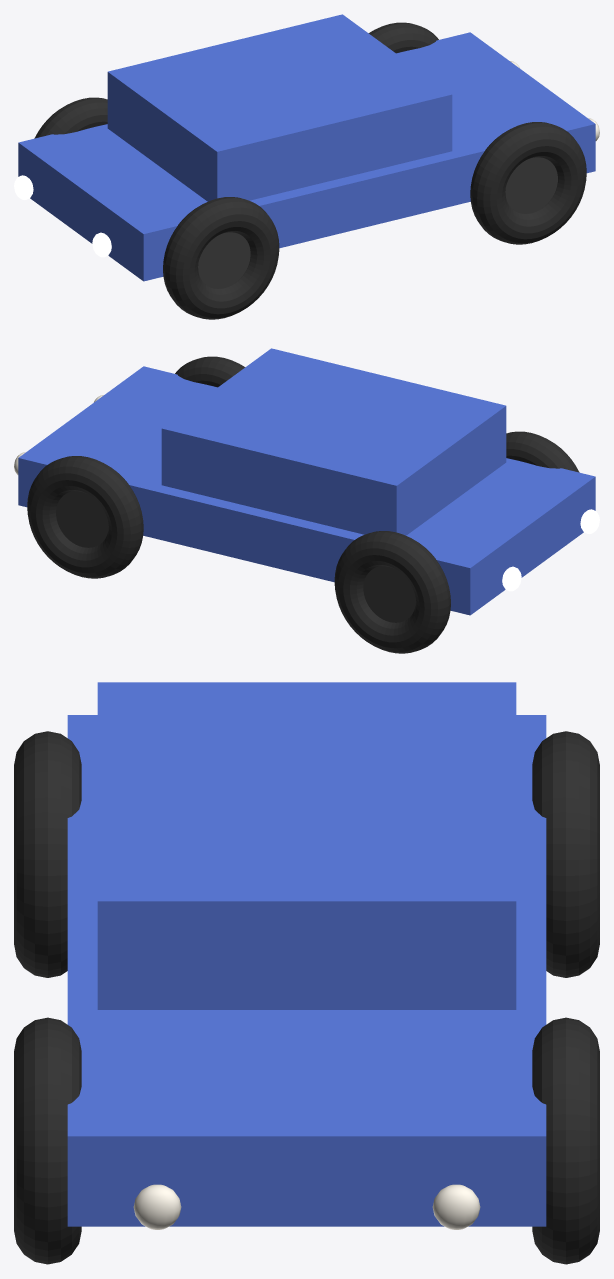
3 renders of one model, top to bottom at view 1: azimuth 30°, elevation 25°; view 2: azimuth 150°, elevation 25°; view 3: azimuth 270°, elevation 25°, orthographic. The views are drawn at different scales.
Parts seen in each view (by area): view 1: SportsCar; view 2: SportsCar; view 3: SportsCar.
Part boxes in pixels (box(x1,y1,x2,y2)): SportsCar: box(14, 14, 599, 319); SportsCar: box(14, 348, 599, 653); SportsCar: box(14, 682, 599, 1264).
Size of the model in its own units: 5.57 by 1.62 by 2.94.
